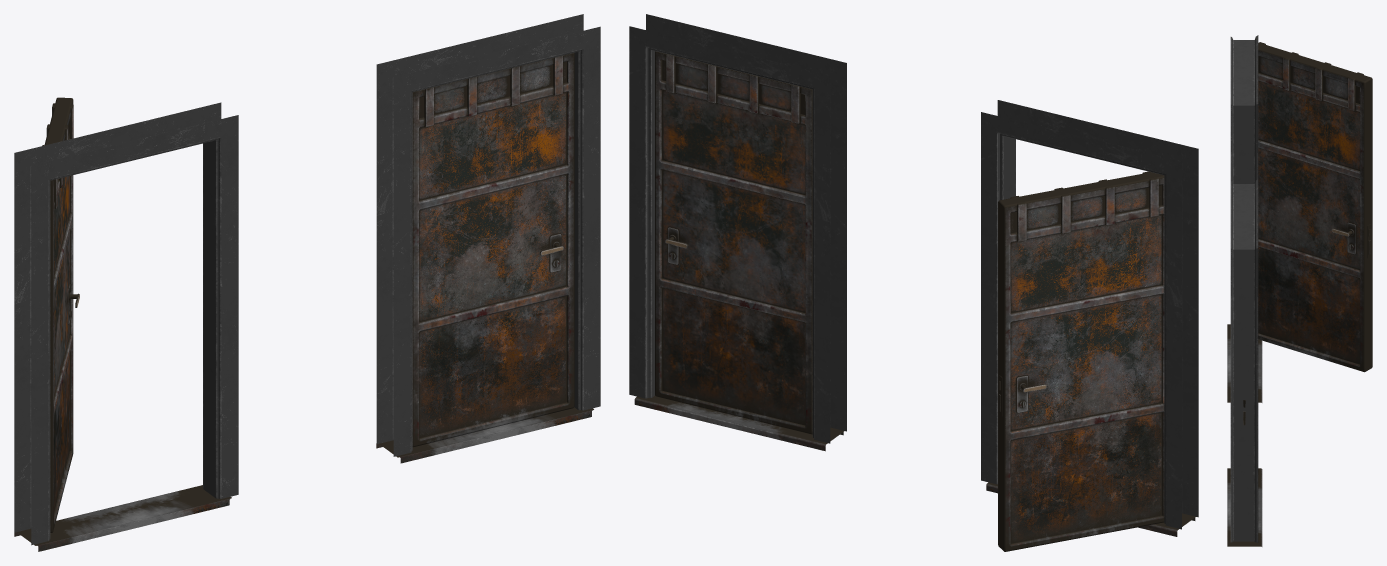
File: door___old___metal_-_14mb.glb
3 views of the same model, side by side, from view 1: azimuth 30°, elevation 25°; view 2: azimuth 150°, elevation 25°; view 3: azimuth 270°, elevation 25° (orthographic). The views are drawn at different scales.
Parts seen in each view (by area): view 1: door_2, f, f_2, door; view 2: door, door_2, f_2, f; view 3: door, f_2, f, lock.
Boxes of the visible parts, x1,y1,x2,y2 form: door_2: [412, 53, 574, 447]; f: [14, 102, 238, 551]; f_2: [376, 14, 600, 463]; door: [42, 97, 73, 532]; door: [998, 171, 1164, 551]; door_2: [655, 51, 812, 434]; f_2: [629, 14, 846, 451]; f: [981, 100, 1198, 536]; door: [1258, 42, 1372, 372]; f_2: [1227, 179, 1262, 546]; f: [1227, 35, 1262, 402]; lock: [1347, 222, 1356, 254].
Bounding box in the file's own units: 384 × 249 × 104.
Materials: 1 (1 with a texture image).
